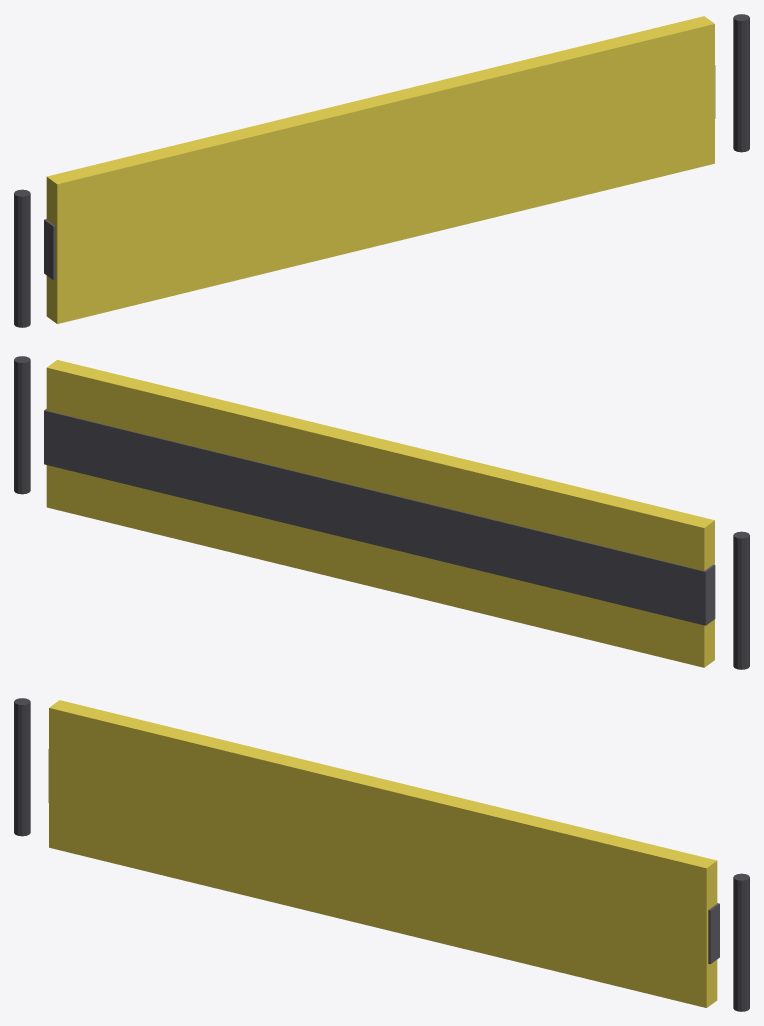
File: prop_cable_ramp.glb
3 renders of one model, top to bottom at view 1: azimuth 30°, elevation 25°; view 2: azimuth 150°, elevation 25°; view 3: azimuth 330°, elevation 25°, orthographic.
Parts seen in each view (by area): view 1: CableRamp, Cylinder.003, Cylinder, Cylinder.001, Cylinder.004, Cylinder.005, Cube, Cylinder.002; view 2: CableRamp, Cube, Cylinder.003, Cylinder, Cylinder.005, Cylinder.001, Cylinder.002, Cylinder.004; view 3: CableRamp, Cylinder, Cylinder.003, Cylinder.004, Cylinder.002, Cylinder.005, Cylinder.001, Cube.
Boxes of the visible parts, <box> form: CableRamp: <box>46,16,714,323</box>; Cylinder.003: <box>733,52,749,152</box>; Cylinder: <box>14,228,30,327</box>; Cylinder.001: <box>14,211,30,310</box>; Cylinder.004: <box>733,35,749,133</box>; Cylinder.005: <box>733,14,749,117</box>; Cube: <box>44,65,715,280</box>; Cylinder.002: <box>14,189,30,292</box>; CableRamp: <box>46,360,714,667</box>; Cube: <box>44,409,715,625</box>; Cylinder.003: <box>14,394,30,494</box>; Cylinder: <box>733,570,749,669</box>; Cylinder.005: <box>14,356,30,459</box>; Cylinder.001: <box>733,553,749,652</box>; Cylinder.002: <box>733,531,749,635</box>; Cylinder.004: <box>14,377,30,476</box>; CableRamp: <box>49,700,717,1007</box>; Cylinder: <box>14,737,30,836</box>; Cylinder.003: <box>733,912,749,1011</box>; Cylinder.004: <box>733,895,749,994</box>; Cylinder.002: <box>14,698,30,801</box>; Cylinder.005: <box>733,873,749,977</box>; Cylinder.001: <box>14,719,30,818</box>; Cube: <box>48,749,719,964</box>.
Bounding box in the file's own units: 3.57 × 0.65 × 0.095.
